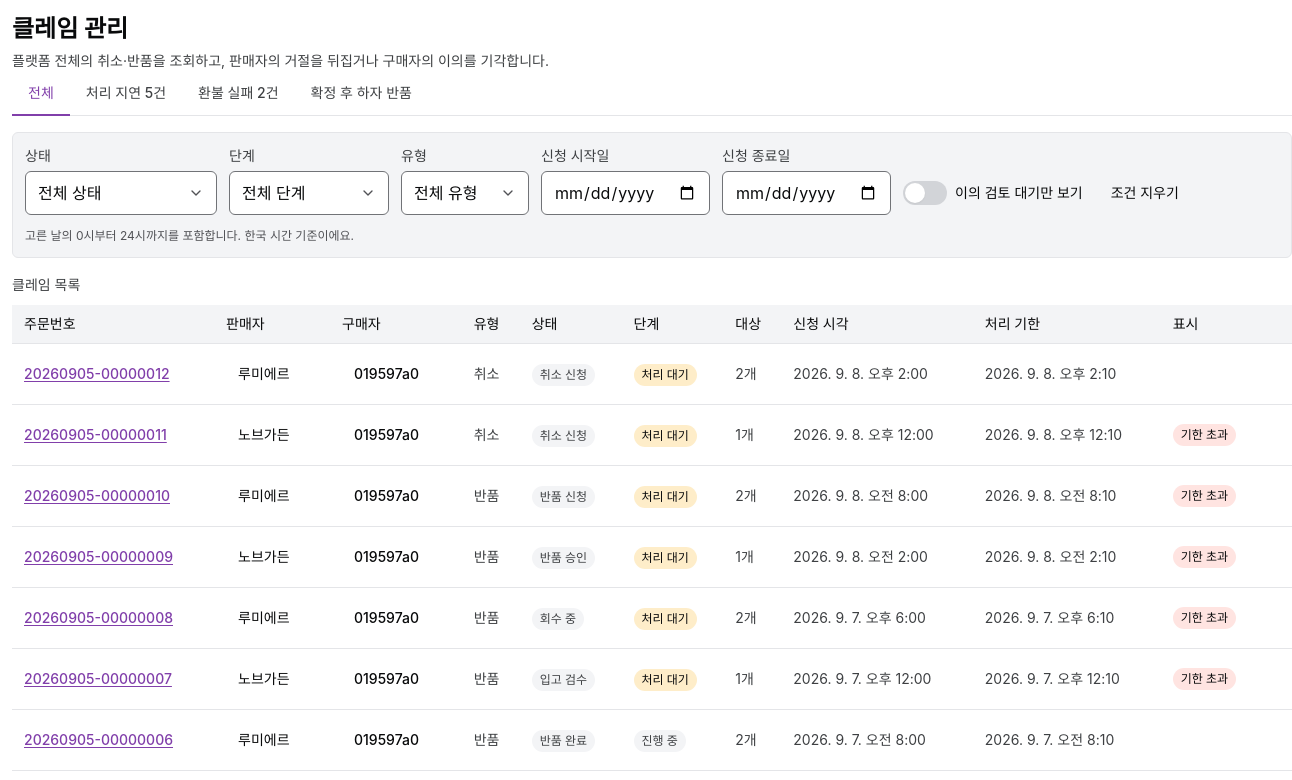
Test: 대상을 찾는 자리 › 빈 칸과 알 수 없는 값은 서로 다른 문장으로 끝난다
Step 1. Click the tab "확정 후 하자 반품" → (361, 94), box [295,72,428,116]
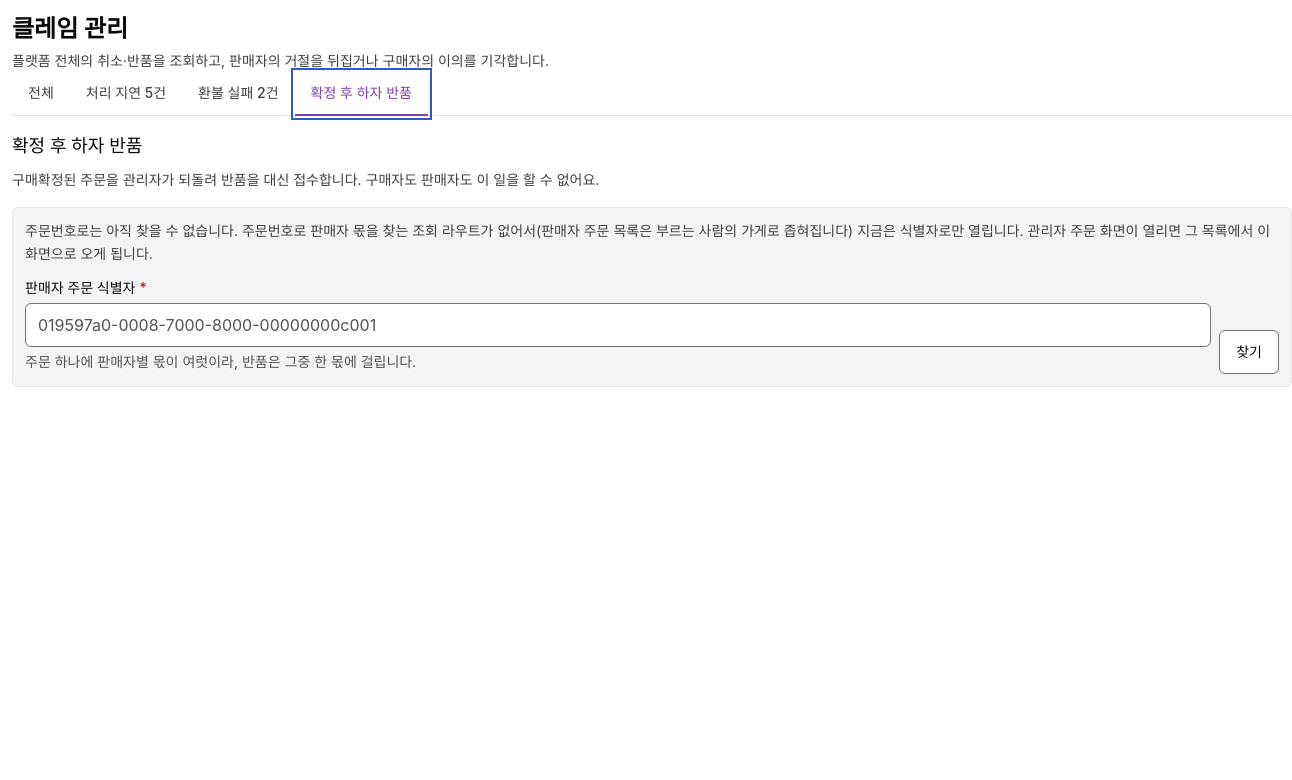
Expected: the field labelled "판매자 주문 식별자" is shown, [25,303,1211,347]
Step 2. Click the button "찾기" → (1249, 352), box [1219,330,1279,374]
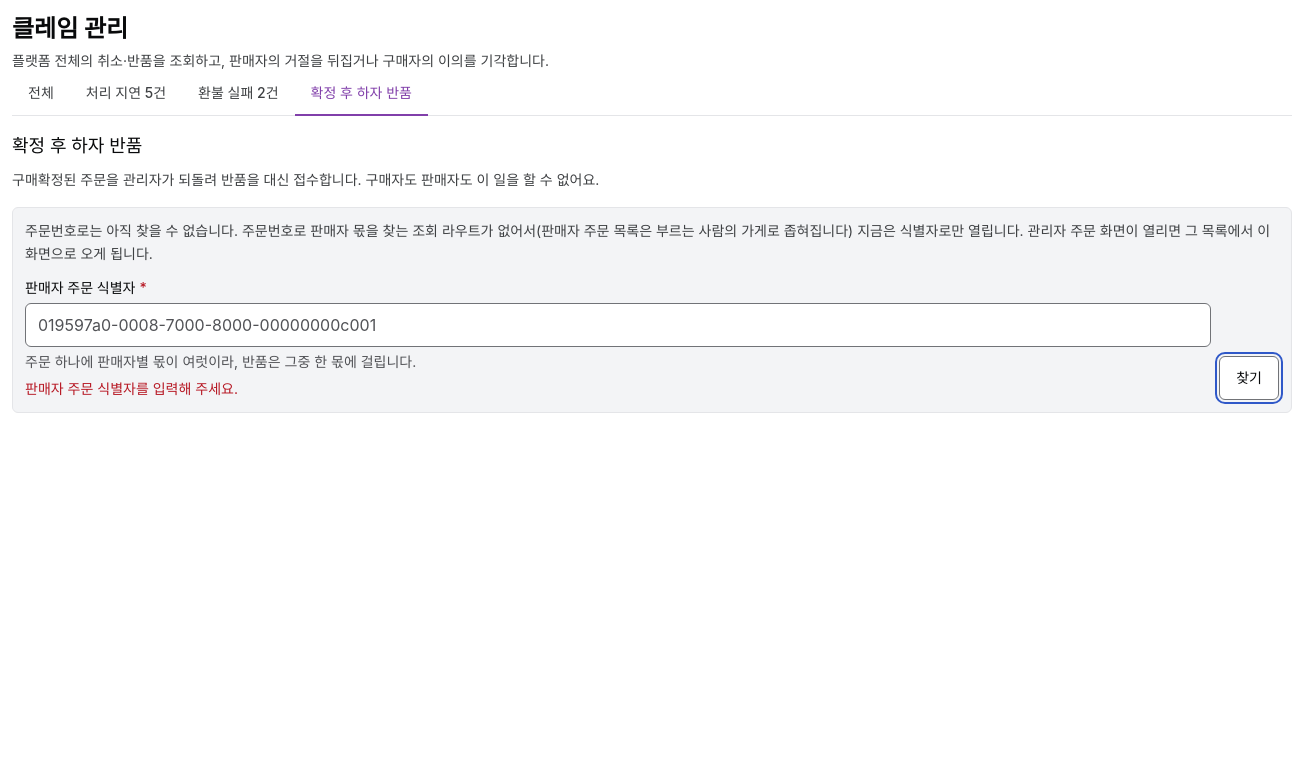
Expected: the text "판매자 주문 식별자를 입력해 주세요." is shown, [25,380,238,397]
Step 3. Type "주문 좀 찾아줘" into the field labelled "판매자 주문 식별자" → (618, 325), box [25,303,1211,347]
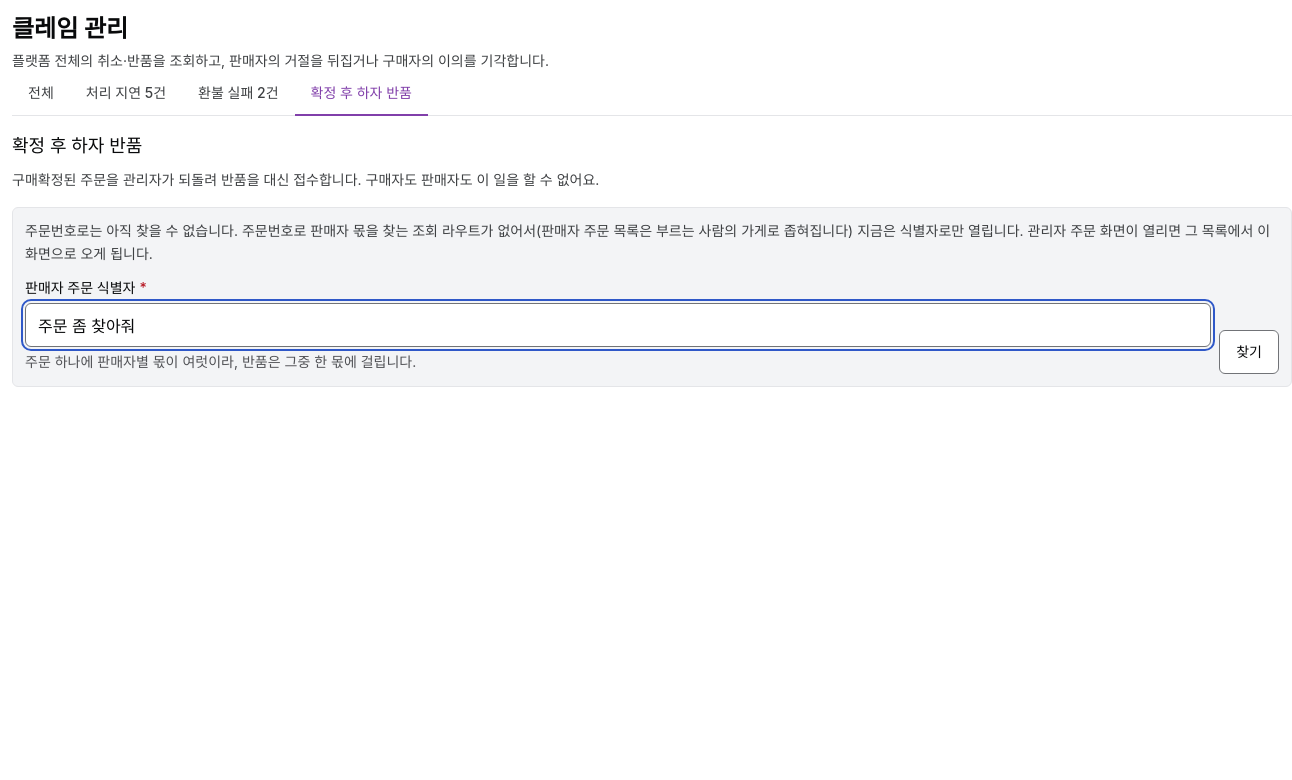
Step 4. Click the button "찾기" → (1249, 352), box [1219,330,1279,374]
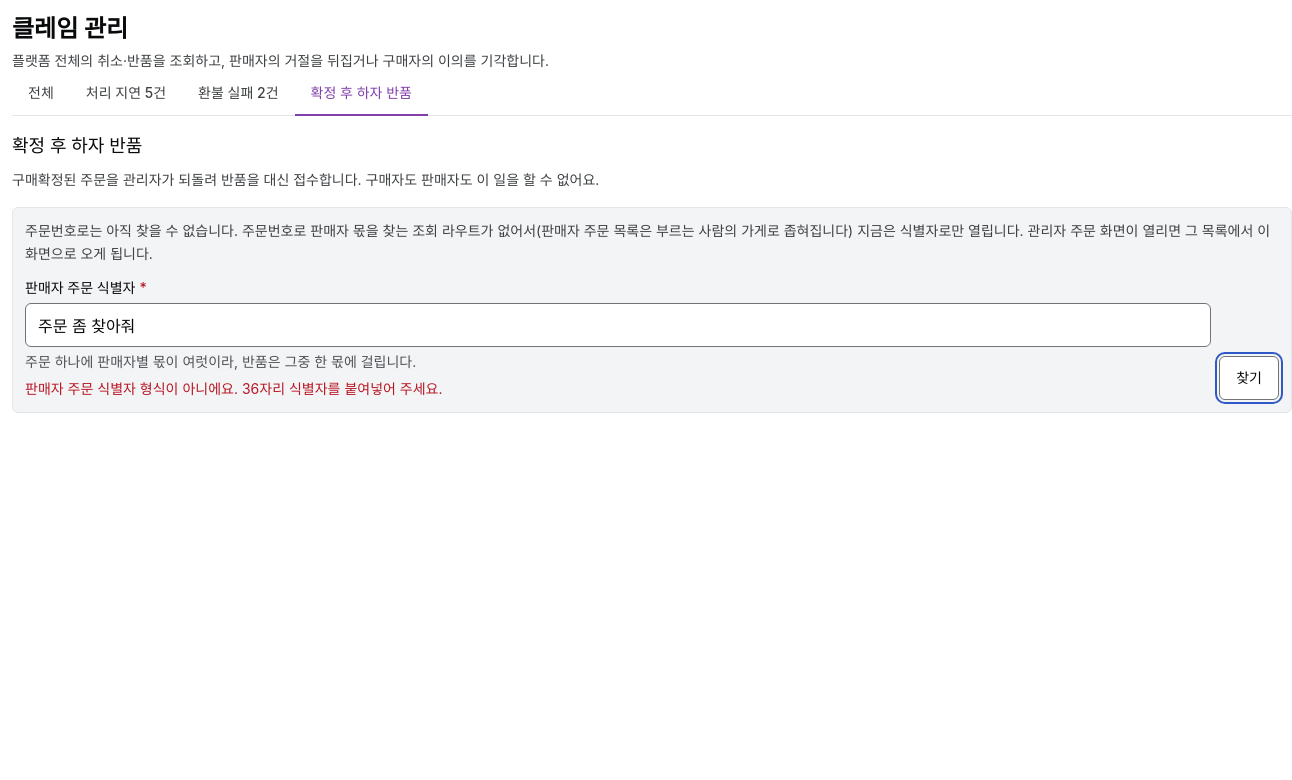
Expected: the text "판매자 주문 식별자 형식이 아니에요. 36자리 식별자를 붙여넣어 주세요." is shown, [25,380,442,397]
